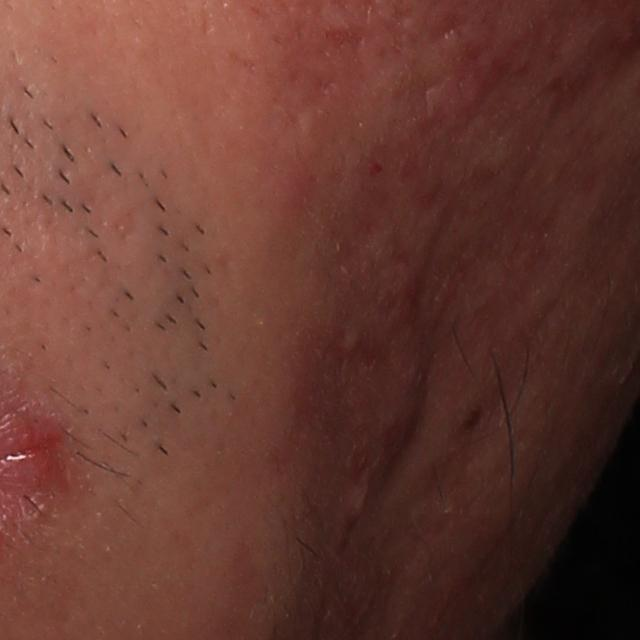nodule: (331, 327, 440, 536)
papule: (11, 400, 83, 509)
